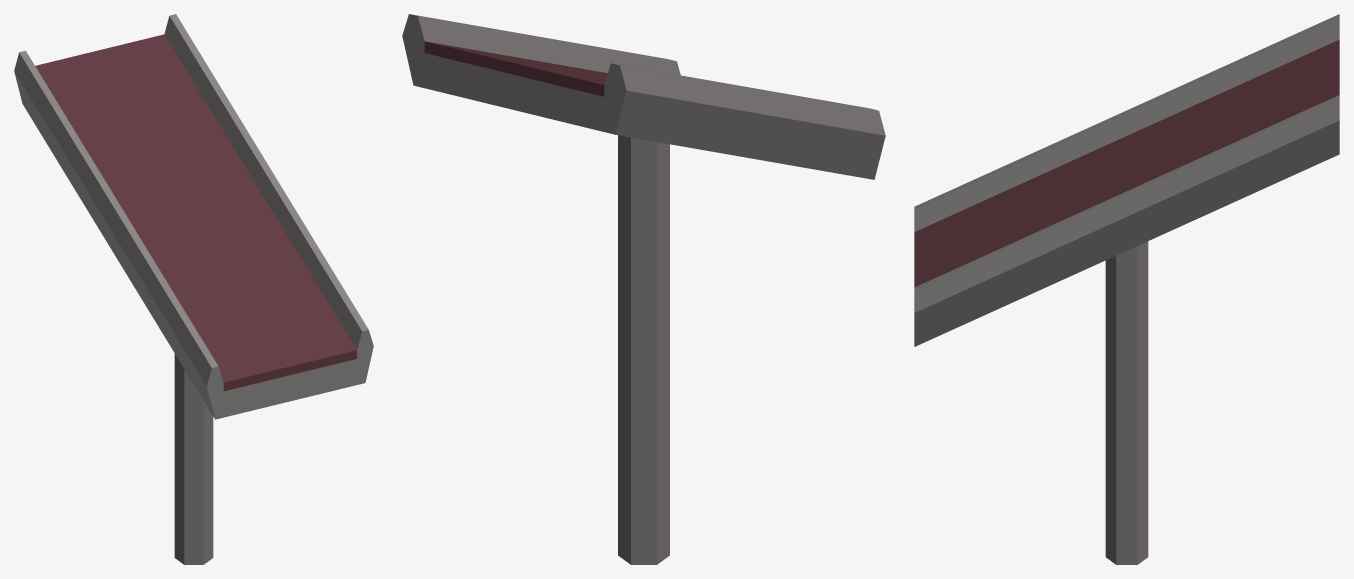
The model's file is scifi-belt-moving-up.glb.
The picture shows the model from 3 angles, left to right: view 1: azimuth 30°, elevation 25°; view 2: azimuth 150°, elevation 25°; view 3: azimuth 270°, elevation 25°; orthographic projection. The views are drawn at different scales.
Parts seen in each view (by area): view 1: belt-moving-up; view 2: belt-moving-up; view 3: belt-moving-up.
Part boxes in pixels (left/top/right/bottom): belt-moving-up: left=14, top=14, right=373, bottom=564; belt-moving-up: left=402, top=14, right=885, bottom=564; belt-moving-up: left=914, top=14, right=1339, bottom=564.
Size of the model in its own units: 1 by 2.6 by 2.
